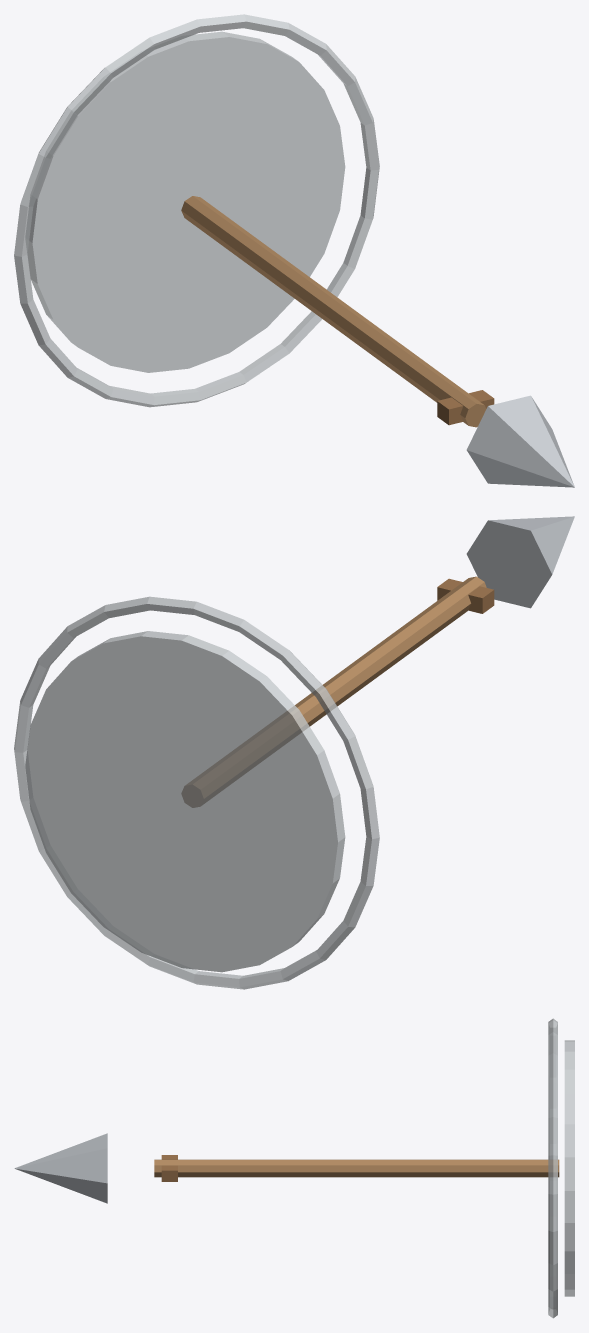
The model's file is weapon_pickup_spear_common.glb.
3 renders of one model, top to bottom at view 1: azimuth 30°, elevation 25°; view 2: azimuth 150°, elevation 25°; view 3: azimuth 270°, elevation 25°, orthographic. The views are drawn at different scales.
Parts seen in each view (by area): view 1: rarity_base_disc, rarity_orbit_ring, shaft, spear_tip, binding; view 2: rarity_base_disc, rarity_orbit_ring, shaft, spear_tip, binding; view 3: shaft, spear_tip, rarity_orbit_ring, rarity_base_disc.
Part boxes in pixels (bbox=[...]): rarity_base_disc: bbox=[26, 31, 345, 372]; rarity_orbit_ring: bbox=[14, 14, 379, 407]; shaft: bbox=[181, 196, 486, 427]; spear_tip: bbox=[466, 395, 574, 487]; binding: bbox=[437, 390, 494, 425]; rarity_base_disc: bbox=[25, 631, 345, 972]; rarity_orbit_ring: bbox=[14, 596, 379, 989]; shaft: bbox=[182, 576, 486, 807]; spear_tip: bbox=[466, 516, 574, 608]; binding: bbox=[437, 578, 494, 613]; shaft: bbox=[154, 1159, 559, 1177]; spear_tip: bbox=[14, 1133, 107, 1203]; rarity_orbit_ring: bbox=[548, 1018, 557, 1318]; rarity_base_disc: bbox=[564, 1040, 574, 1296].
Bounding box in the file's own units: 1.45 × 1.45 × 2.7.
